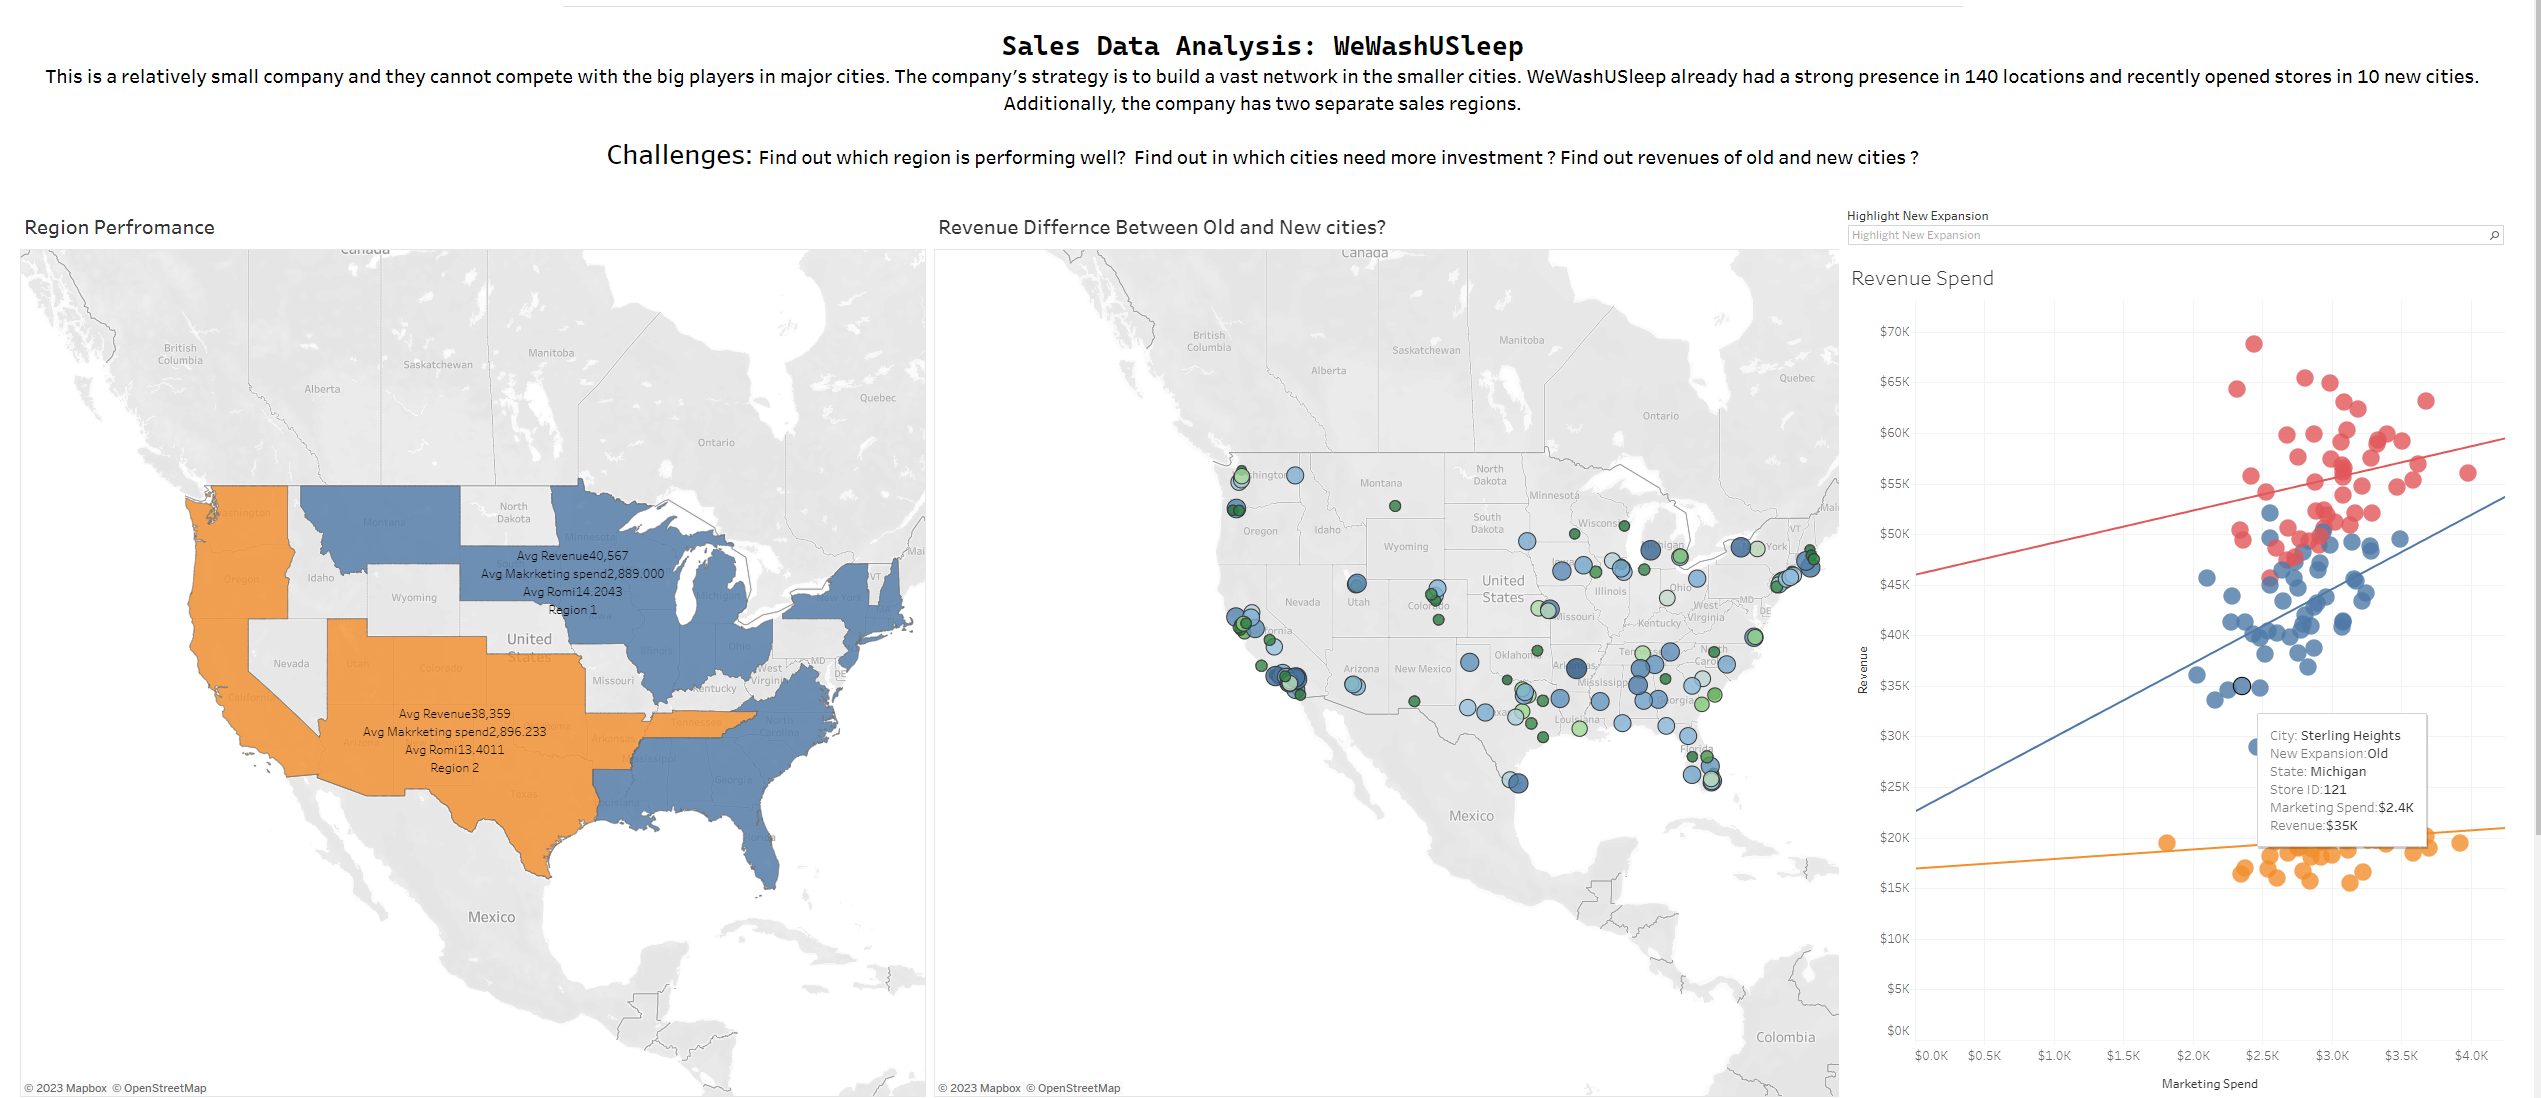

The page's visual inventory and layout, read from the dashboard file:
{"tool":"tableau","page":{"name":"Dashboard 1","canvas":[1000,1000],"units":"permille","ordinal":0},"visuals":[{"type":"text","box":[3.5,6.7,993.1,140.6]},{"type":"worksheet","title":"Sheet 1","mark":"Multipolygon","box":[3.5,176.7,353,816.6]},{"type":"worksheet","title":"Sheet 3","mark":"Automatic","box":[356.5,176.7,353,816.6]},{"type":"highlighter","title":"Sheet 3","param":"[federated.0iq79860nhw4f81ghc4gz1dbw3dc].[none:New Expansion:nk]","box":[709.5,176.7,287.1,42.4]},{"type":"worksheet","title":"Sheet 4","mark":"Automatic","rows":["Revenue"],"cols":["Marketing Spend"],"box":[709.5,219.2,287.1,741.3]}]}

Visuals, with their boxes on the dashboard's canvas, which has no fixed pixel size, in thousandths of its width and height (x1, y1, x2, y2). These are canvas units, not pixel positions in the 2541x1098 screenshot, which may show the page scaled, cropped or inside an application window:
text: left=4, top=7, right=997, bottom=147
"Sheet 1" worksheet (Multipolygon marks): left=4, top=177, right=356, bottom=993
"Sheet 3" worksheet: left=356, top=177, right=710, bottom=993
"Sheet 3" highlighter: left=710, top=177, right=997, bottom=219
"Sheet 4" worksheet: left=710, top=219, right=997, bottom=960
